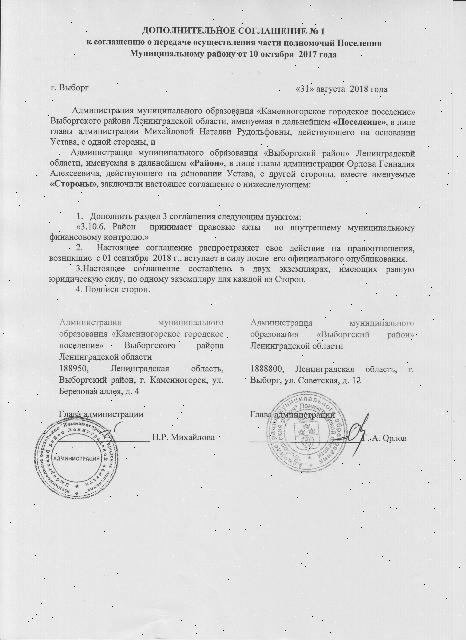stamp: (266, 392, 348, 474), (34, 418, 118, 498)
